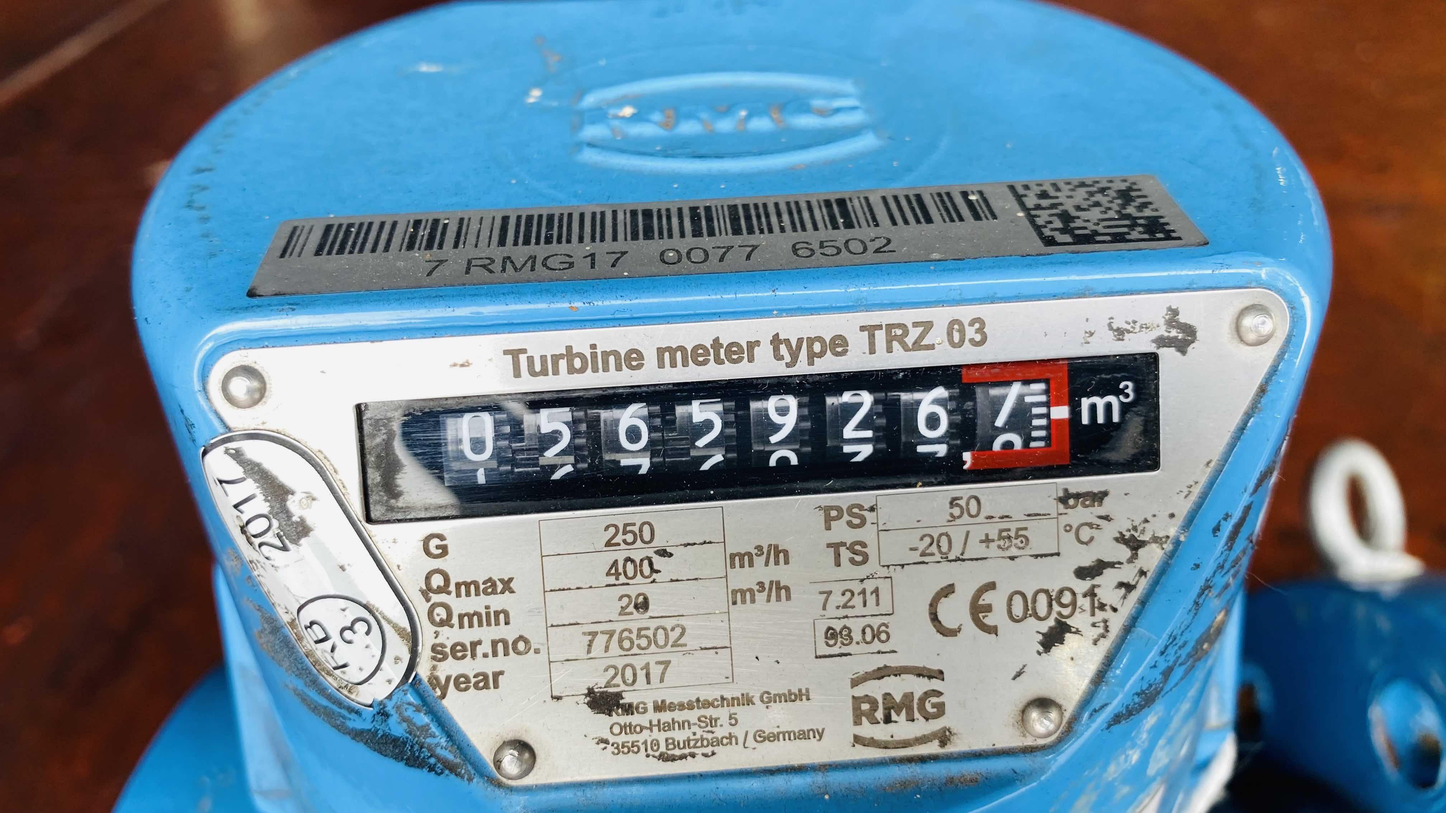analog_dial: (355, 352, 1166, 523)
